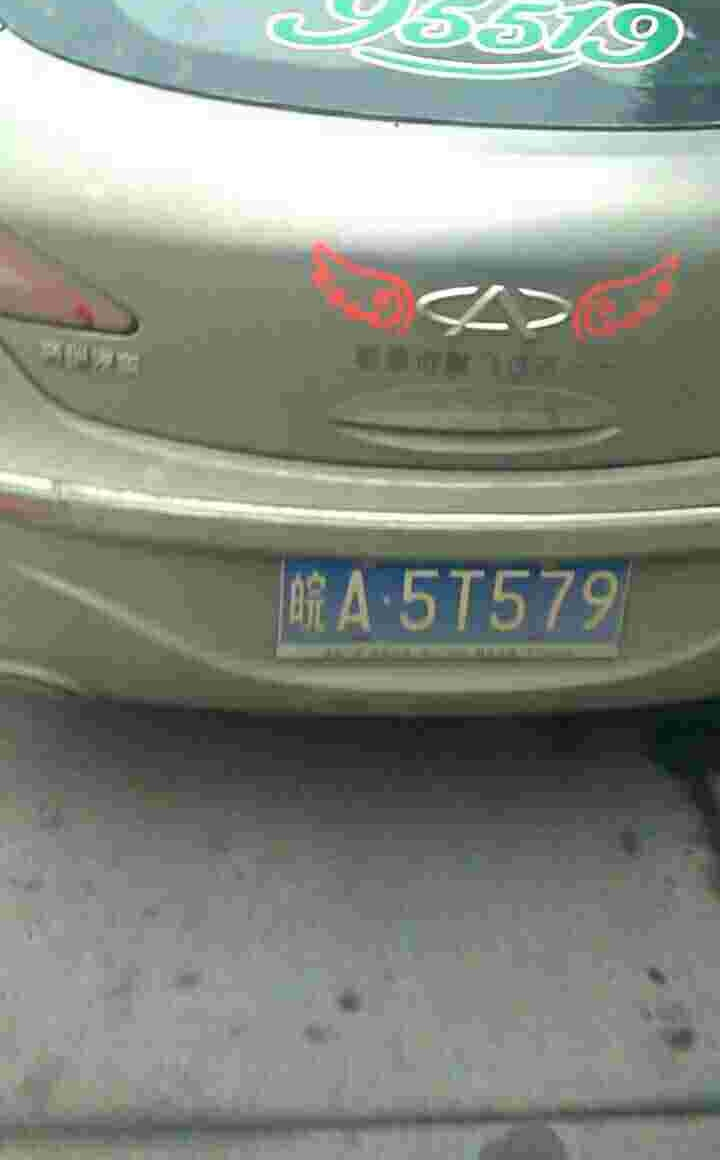license_plate: (275, 560, 628, 640)
